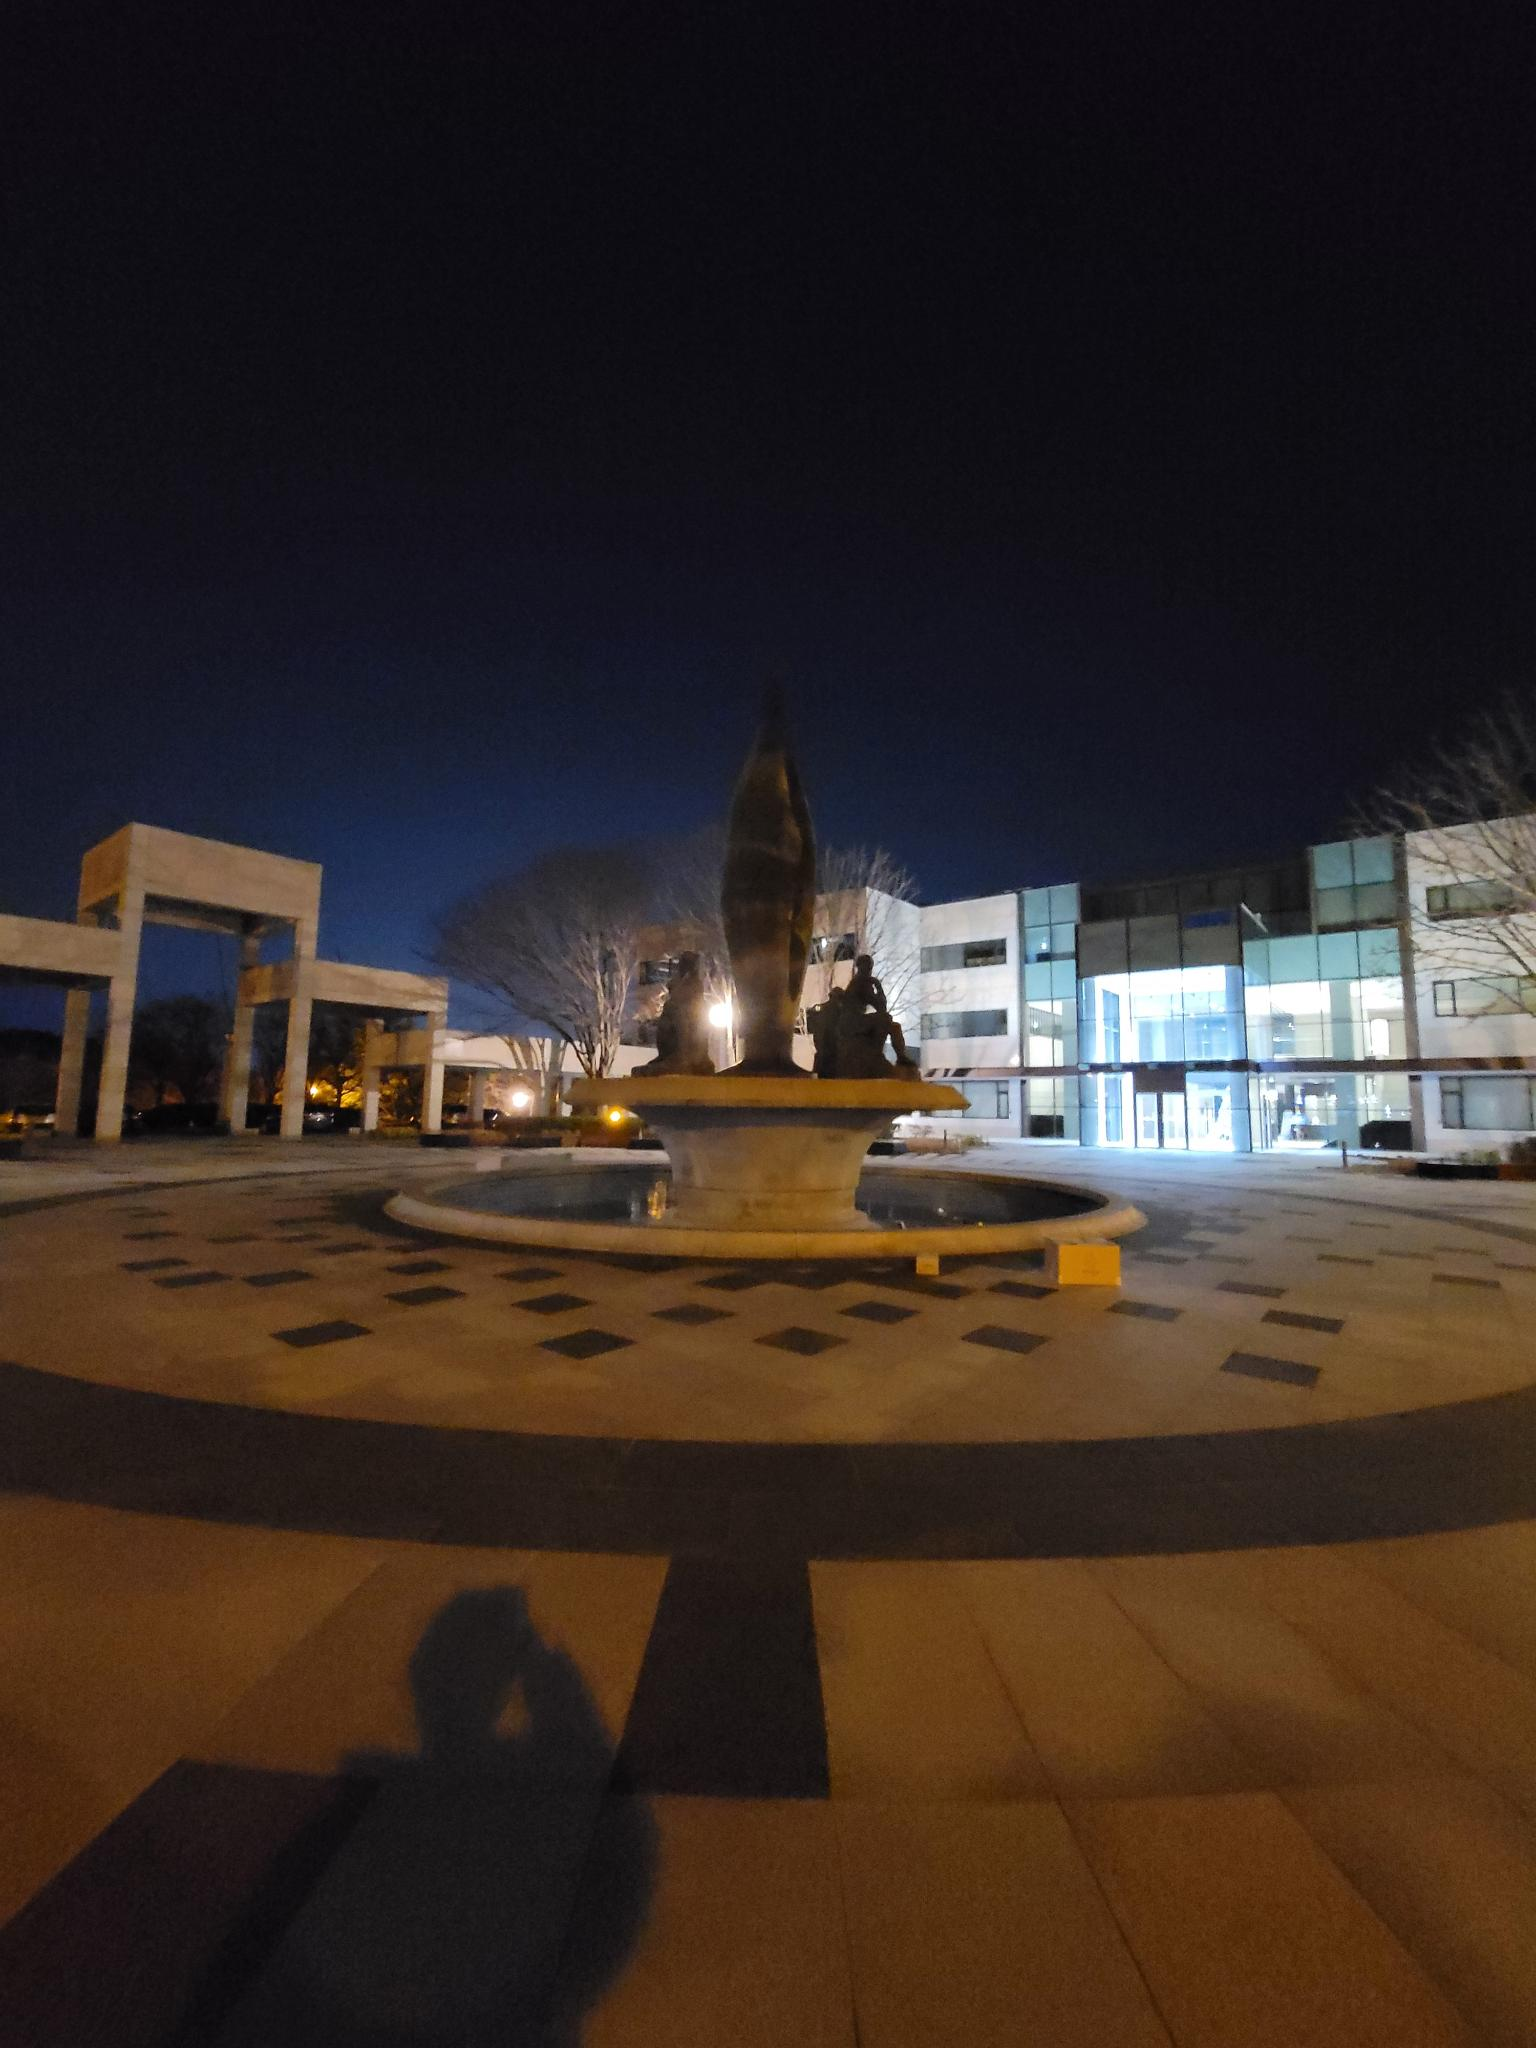Box: (1046, 1235, 1128, 1287), (913, 1250, 944, 1276)
